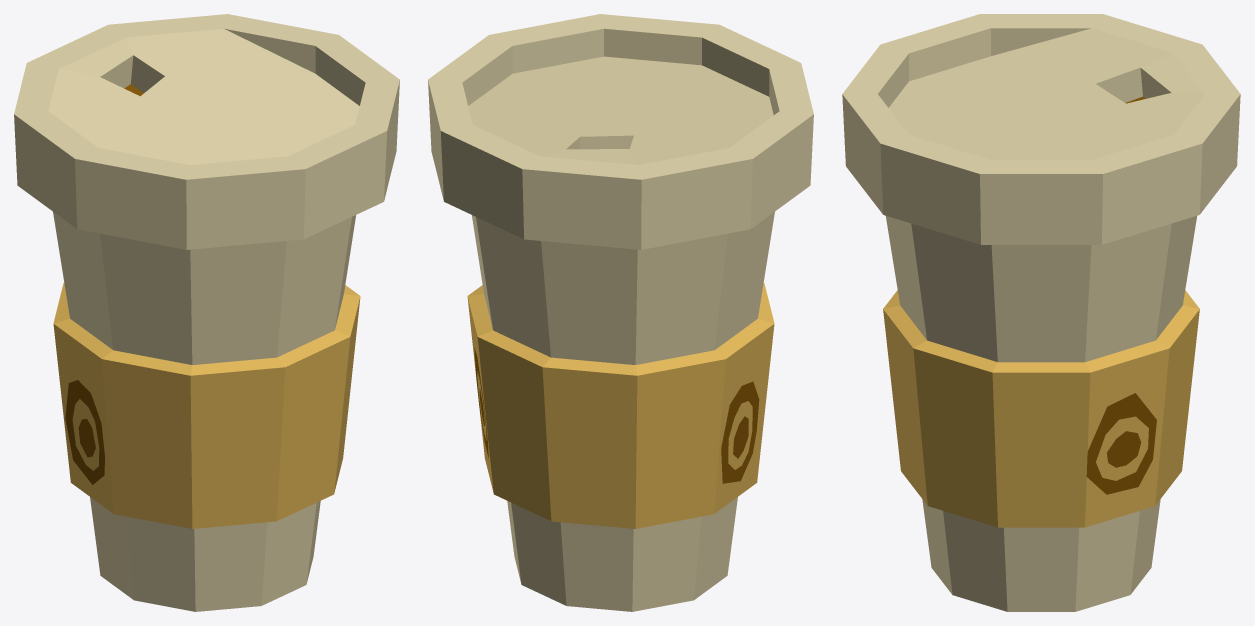
3 renders of one model, left to right at view 1: azimuth 30°, elevation 25°; view 2: azimuth 150°, elevation 25°; view 3: azimuth 270°, elevation 25°, orthographic.
Visible parts, largest first — view 1: Circle; view 2: Circle; view 3: Circle.
Part boxes in pixels (x1,y1,x2,y2): Circle: (14, 14, 399, 611); Circle: (428, 14, 813, 611); Circle: (842, 14, 1240, 611).
Bounding box in the file's own units: 599 × 826 × 629.
